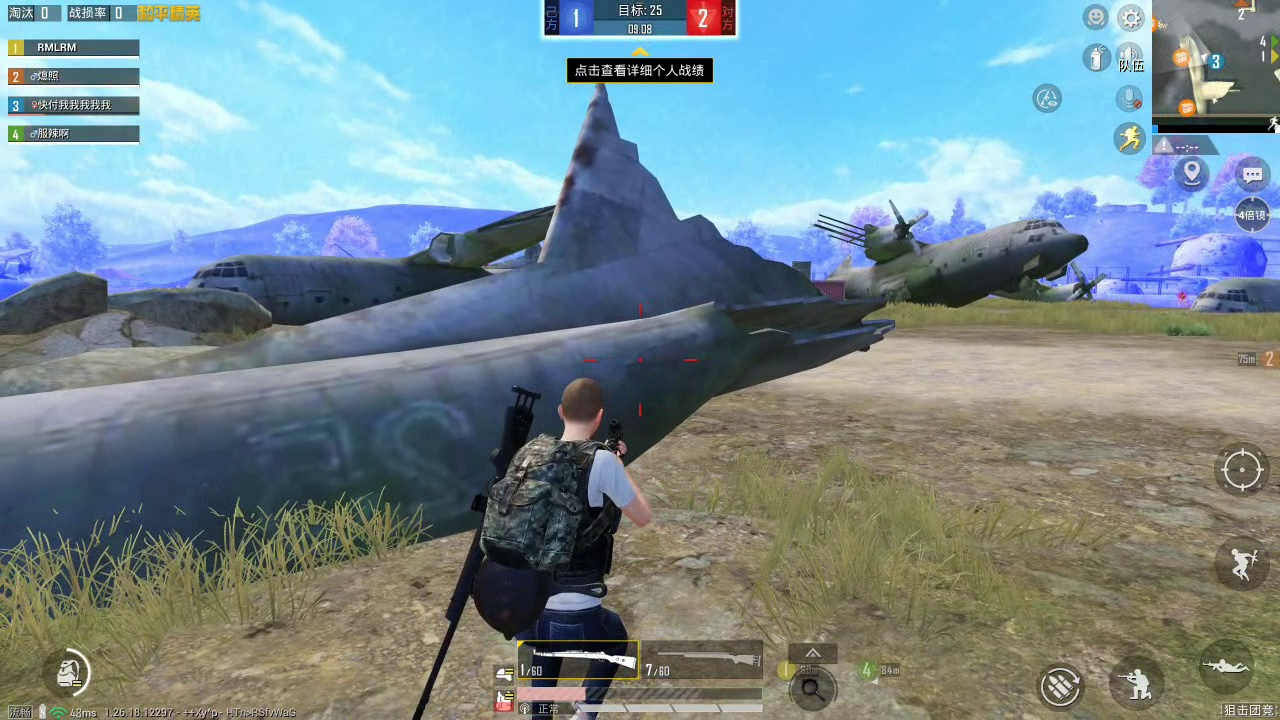enemy: (1177, 290, 1189, 309)
